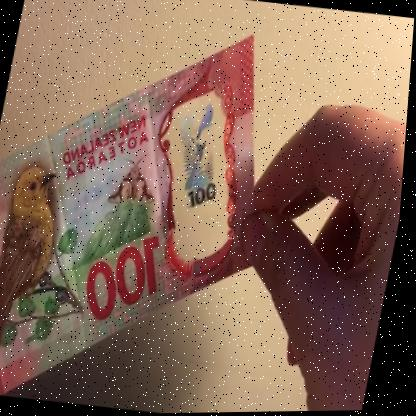100B: (157, 92, 235, 228)
